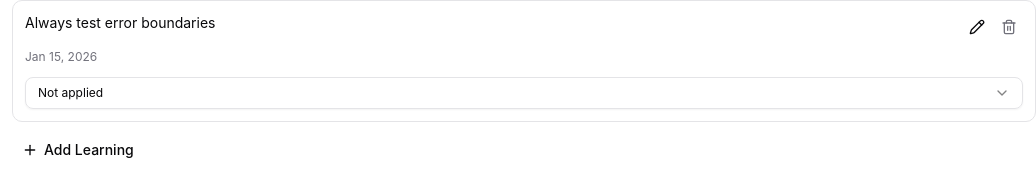
Test: LearningList › editing a learning › shows edit form when edit button is clicked
This screenshot has width=1036, height=183.
Click the 1st button at (977, 27), box [963,13,991,41]
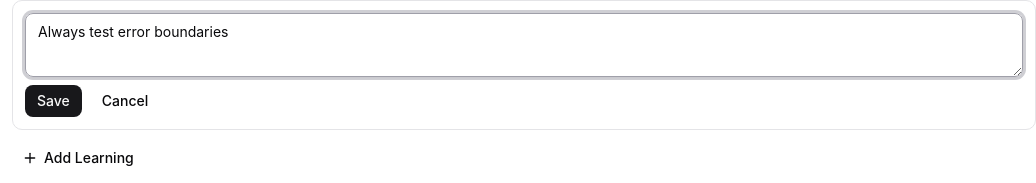
Expected: the text box holds "Always test error boundaries", [25,13,1023,77]
